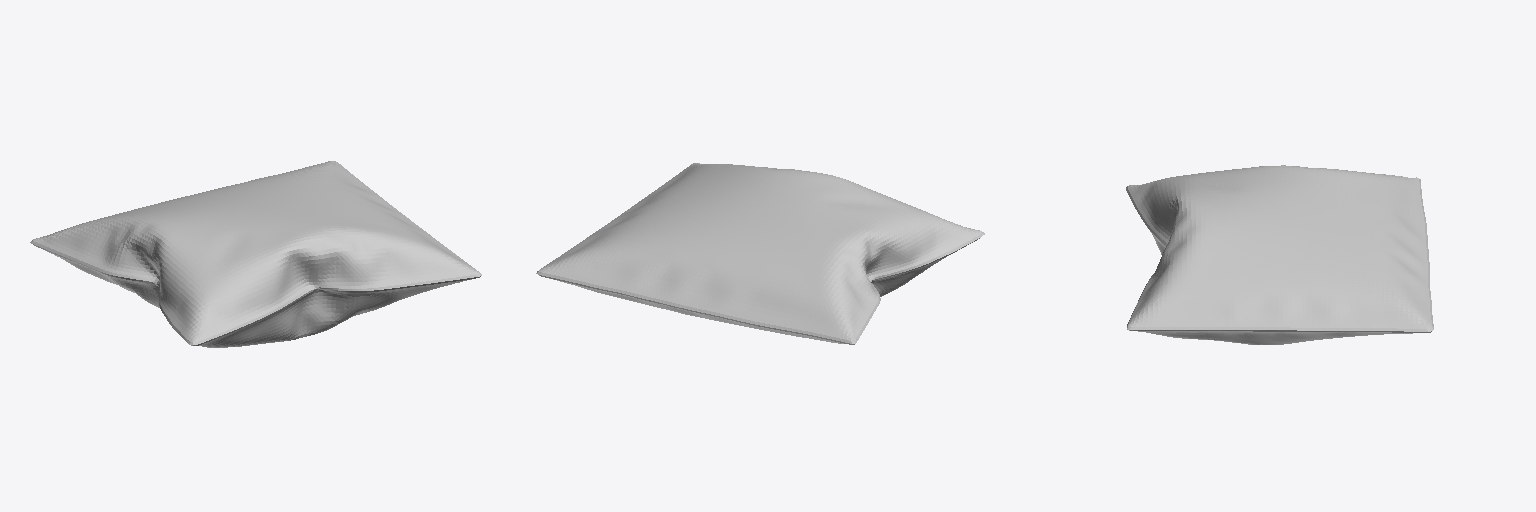
File: almofada.obj
3 renders of one model, left to right at view 1: azimuth 30°, elevation 25°; view 2: azimuth 150°, elevation 25°; view 3: azimuth 270°, elevation 25°, orthographic.
Visible parts, largest first — view 1: Travesseiro_Cube.009; view 2: Travesseiro_Cube.009; view 3: Travesseiro_Cube.009.
Part boxes in pixels (x1,y1,x2,y2): Travesseiro_Cube.009: (30,161,481,347); Travesseiro_Cube.009: (536,163,984,344); Travesseiro_Cube.009: (1126,165,1433,344).
Bounding box in the file's own units: 1.61 × 0.496 × 1.37.